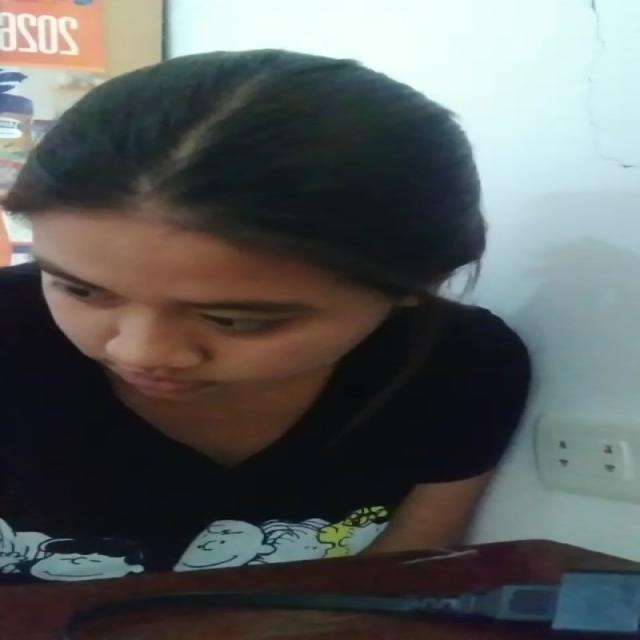9_cabeza_baja: (16, 52, 485, 400)
